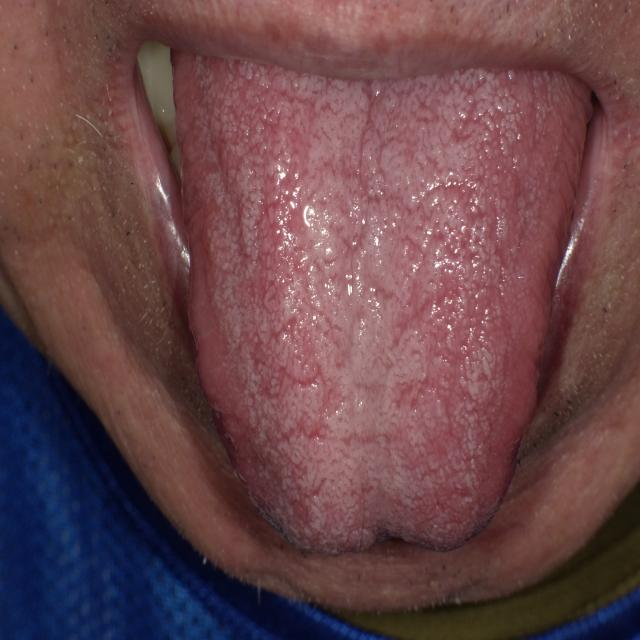baitaishe: (169, 46, 592, 556)
xinfeiao: (324, 507, 443, 557)
